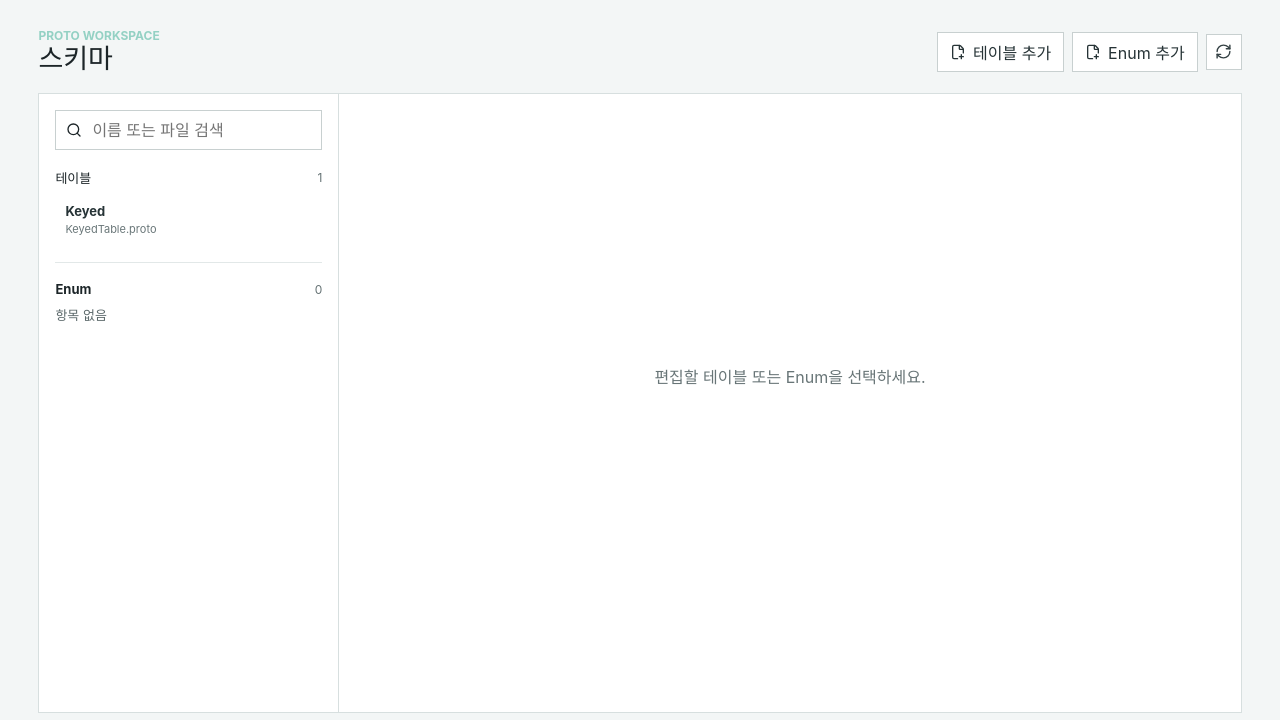
Test: SchemaScreen › opens key help as a dialog and restores focus after Escape
The width and height of the screenshot is (1280, 720).
Click the button with aria-label "Keyed (KeyedTable.proto)" at (85, 211), box [55,195,322,244]
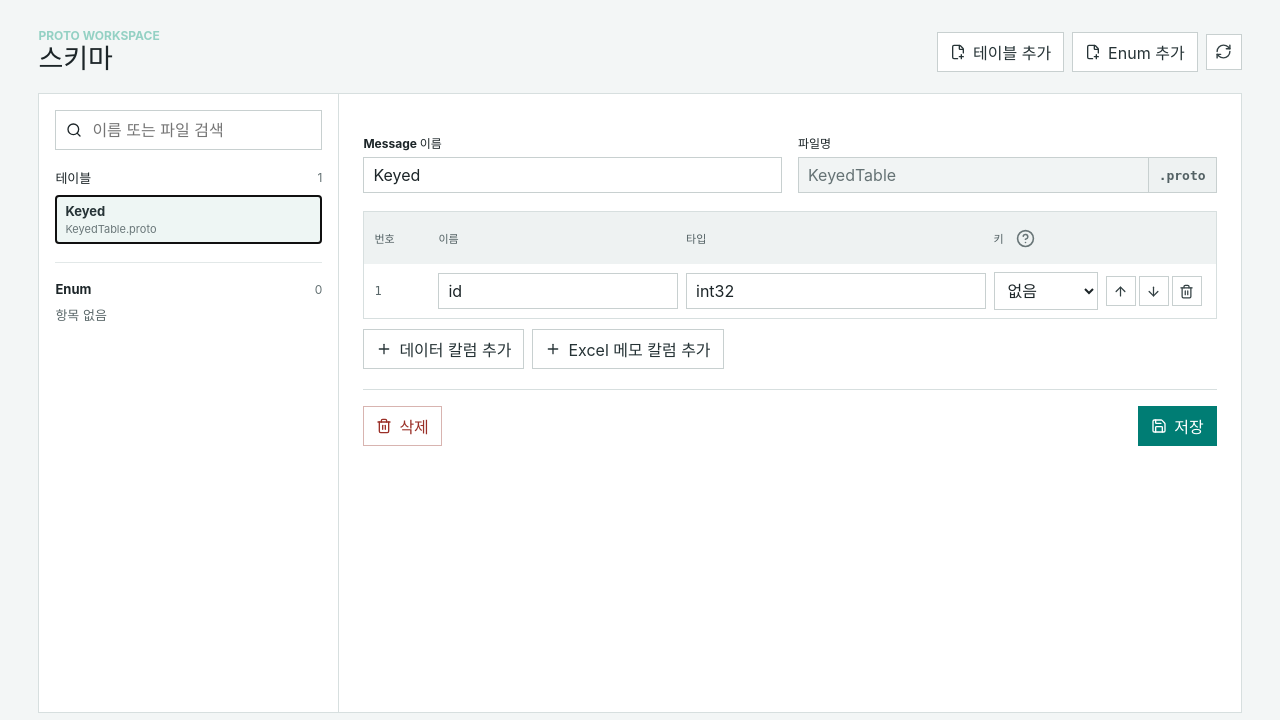
Click the button named "키 규칙 도움말" at (1026, 238), box [1008,220,1044,256]
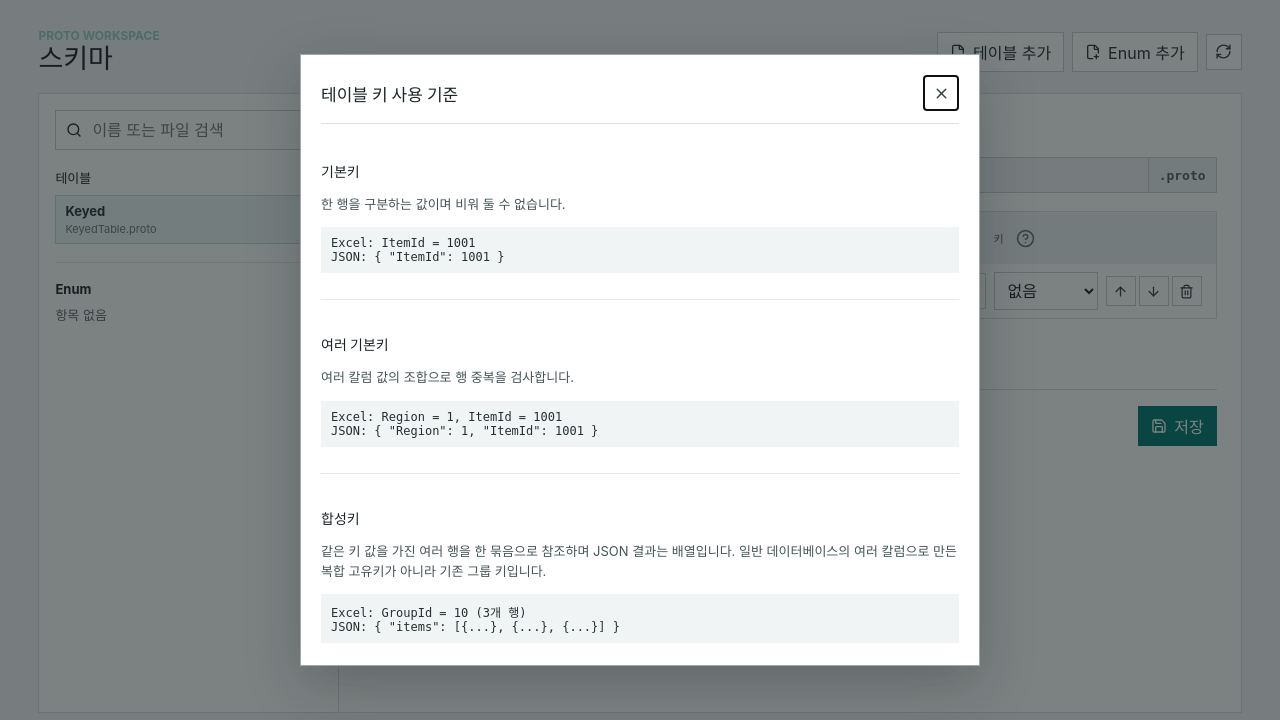
Result: the dialog "테이블 키 사용 기준" is shown at [300,54,980,666]
Result: the text "일반 데이터베이스의 여러 칼럼" is shown at [321,543,957,579]
Press Escape
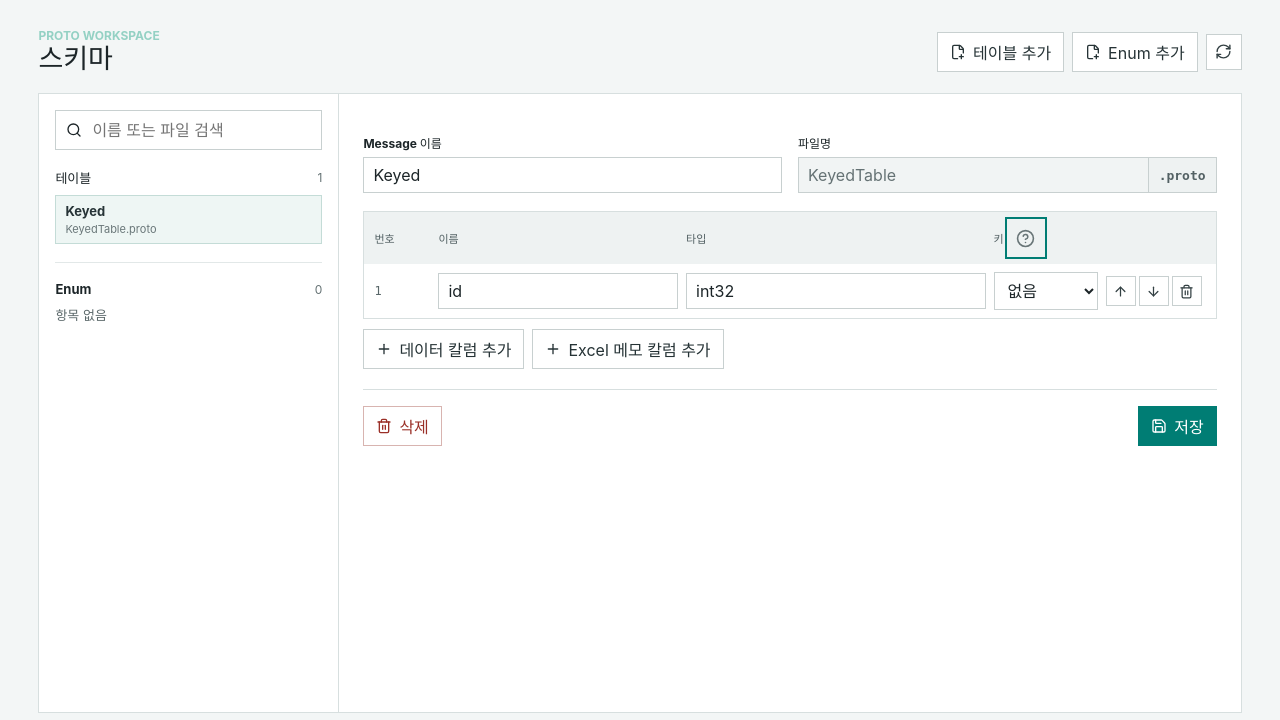
Result: the dialog is gone
